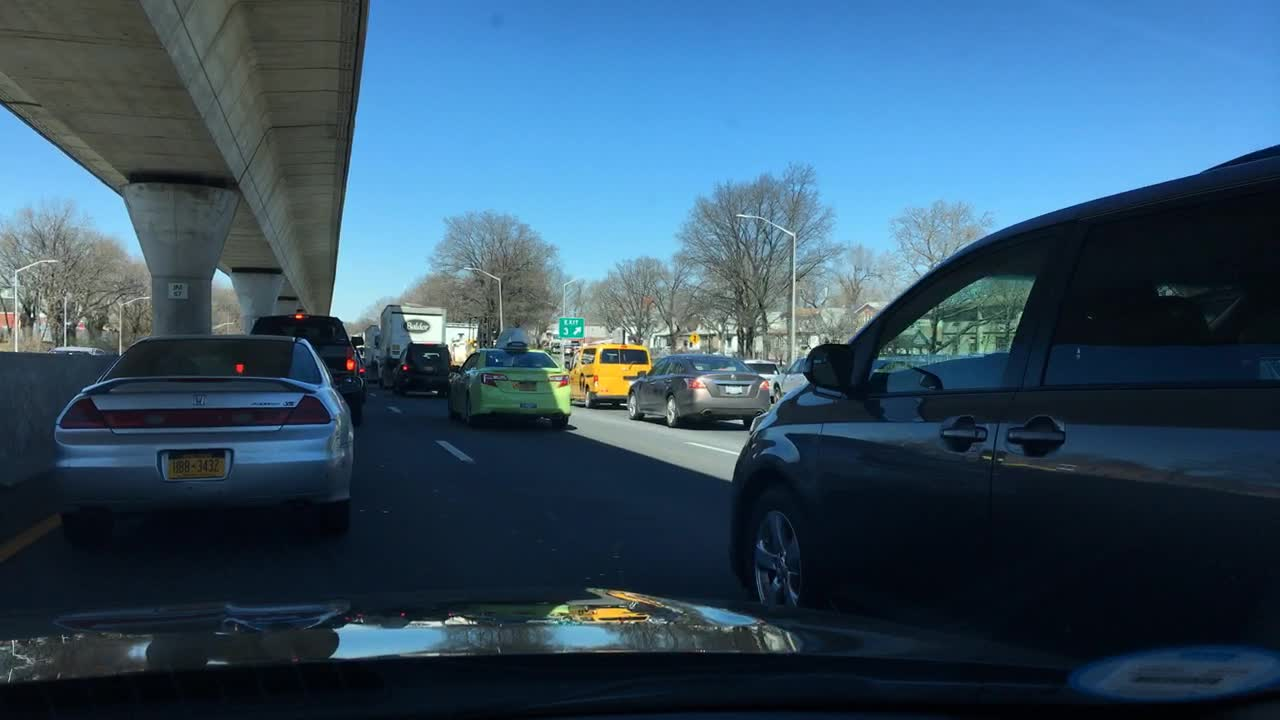car: (724, 142, 1279, 672), (53, 333, 359, 542), (249, 312, 369, 428), (448, 327, 573, 429), (629, 352, 773, 429), (777, 354, 903, 403), (569, 339, 652, 408), (392, 343, 453, 399), (744, 358, 788, 404)
traffic sign: (555, 316, 585, 339), (690, 333, 702, 347)
truck: (372, 303, 451, 387), (447, 321, 482, 369), (357, 323, 382, 387)
